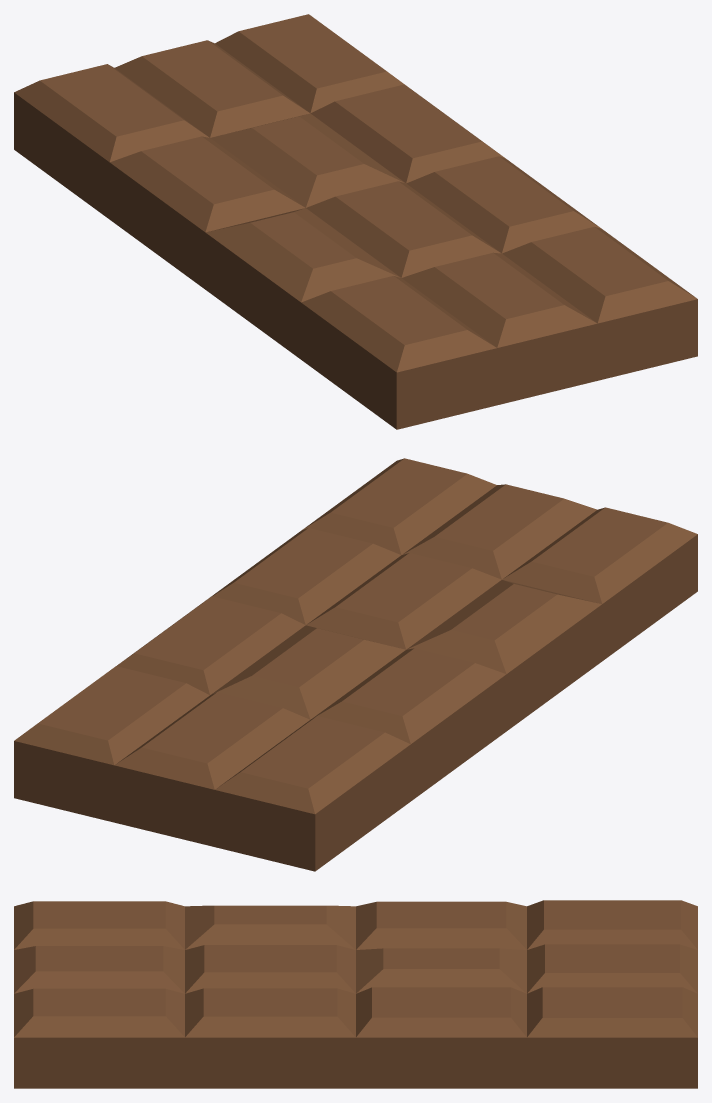
Rendered from Chocolate.fbx.
3 renders of one model, top to bottom at view 1: azimuth 30°, elevation 25°; view 2: azimuth 150°, elevation 25°; view 3: azimuth 270°, elevation 25°, orthographic. The views are drawn at different scales.
Parts seen in each view (by area): view 1: Chocolate; view 2: Chocolate; view 3: Chocolate.
Boxes of the visible parts, x1,y1,x2,y2 form: Chocolate: (14,14,697,429); Chocolate: (14,458,697,871); Chocolate: (14,900,697,1088).
Size of the model in its own units: 40.05 by 18.19 by 4.16.
